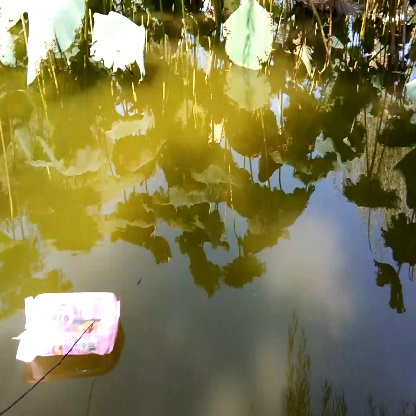plastic-bag: (12, 287, 127, 361)
